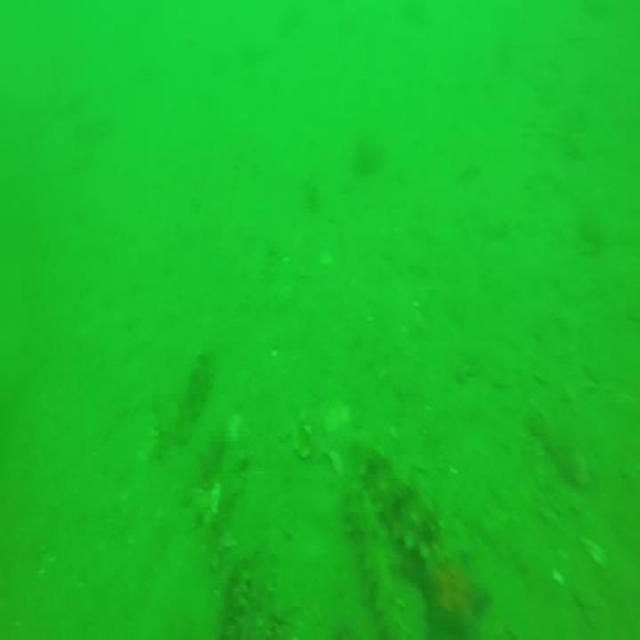holothurian: (354, 447, 452, 640), (341, 483, 400, 640), (165, 332, 217, 457), (220, 558, 247, 640)
scallop: (192, 484, 222, 530), (293, 414, 315, 465)
starfish: (415, 551, 493, 640)
